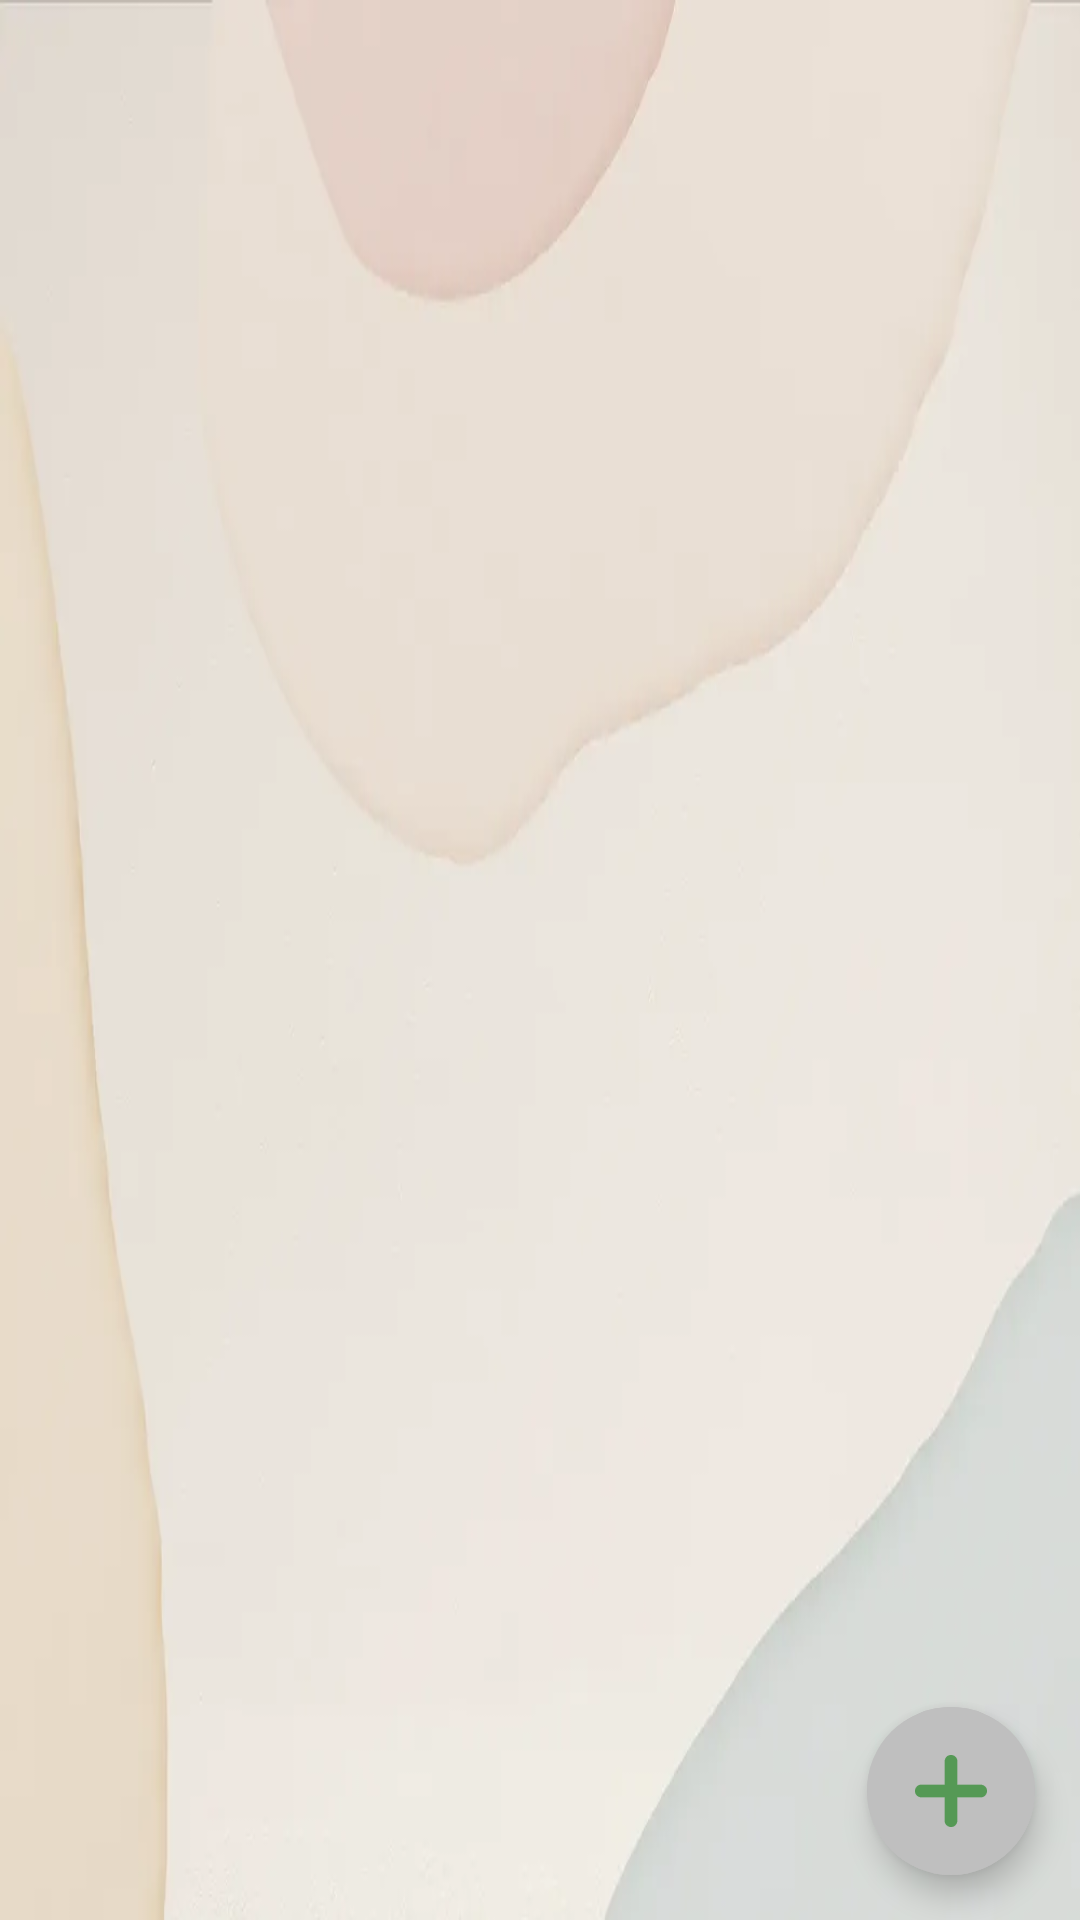

Icons on this 1080×1920 Android screen, each with its box as (x1, y1, x2, y2):
plus: (867, 1707, 1035, 1875)
